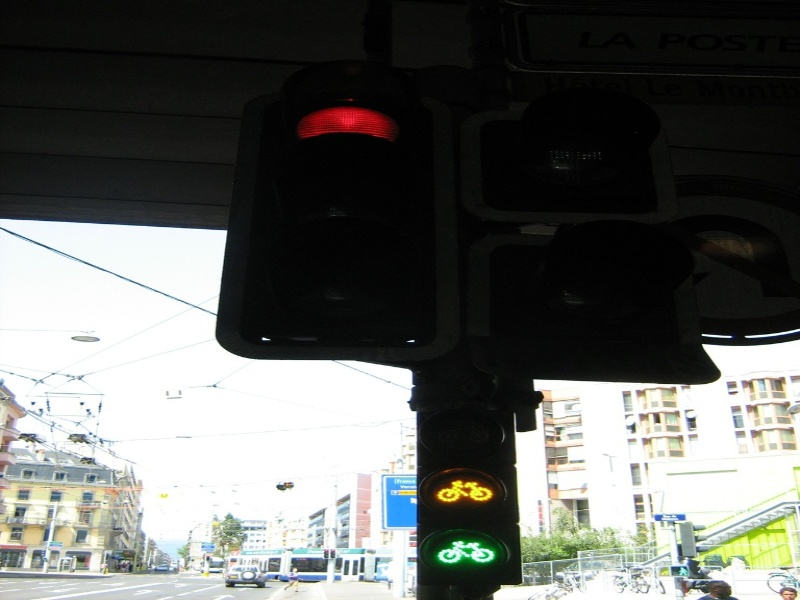cycle_route_ahead: (435, 536, 497, 570), (431, 477, 494, 505)
